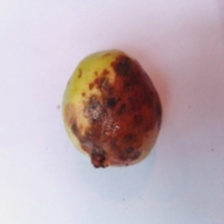guava: (17, 35, 205, 202)
